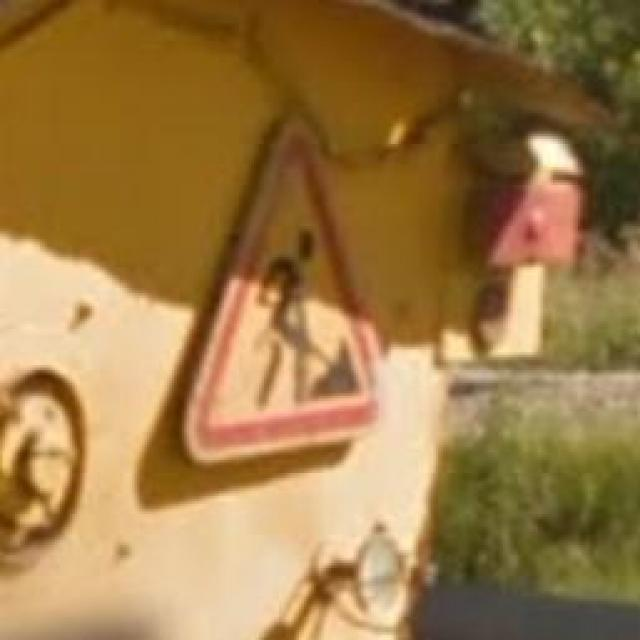road_work: (179, 113, 386, 468)
